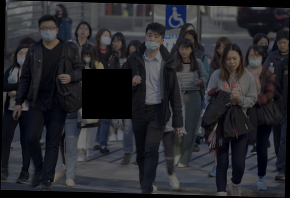mask_weared_incorrect: (143, 32, 162, 52), (246, 51, 263, 70), (15, 50, 29, 66)
with_mask: (40, 24, 57, 42), (98, 34, 113, 48), (256, 40, 269, 55), (81, 52, 92, 65)
without_mask: (224, 53, 241, 71), (178, 45, 192, 59), (75, 25, 89, 39), (276, 40, 289, 53), (215, 44, 226, 57), (112, 39, 122, 51)
